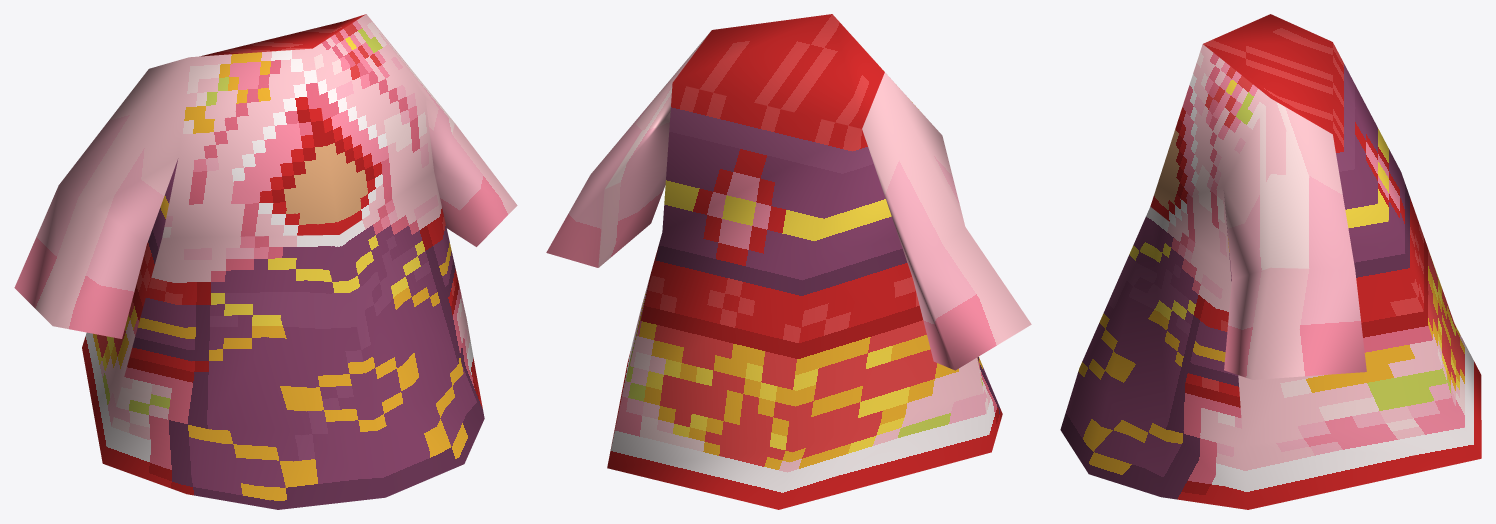
3 views of the same model, side by side, from view 1: azimuth 30°, elevation 25°; view 2: azimuth 150°, elevation 25°; view 3: azimuth 270°, elevation 25° (orthographic). The views are drawn at different scales.
Visible parts, largest first — view 1: 2534dress000_r; view 2: 2534dress000_r; view 3: 2534dress000_r.
Boxes of the visible parts, x1,y1,x2,y2 form: 2534dress000_r: (14,14,517,509); 2534dress000_r: (546,14,1031,509); 2534dress000_r: (1060,14,1481,509).
Bounding box in the file's own units: 1.09 × 0.8945 × 0.8848.
Materials: 1 (1 with a texture image).
